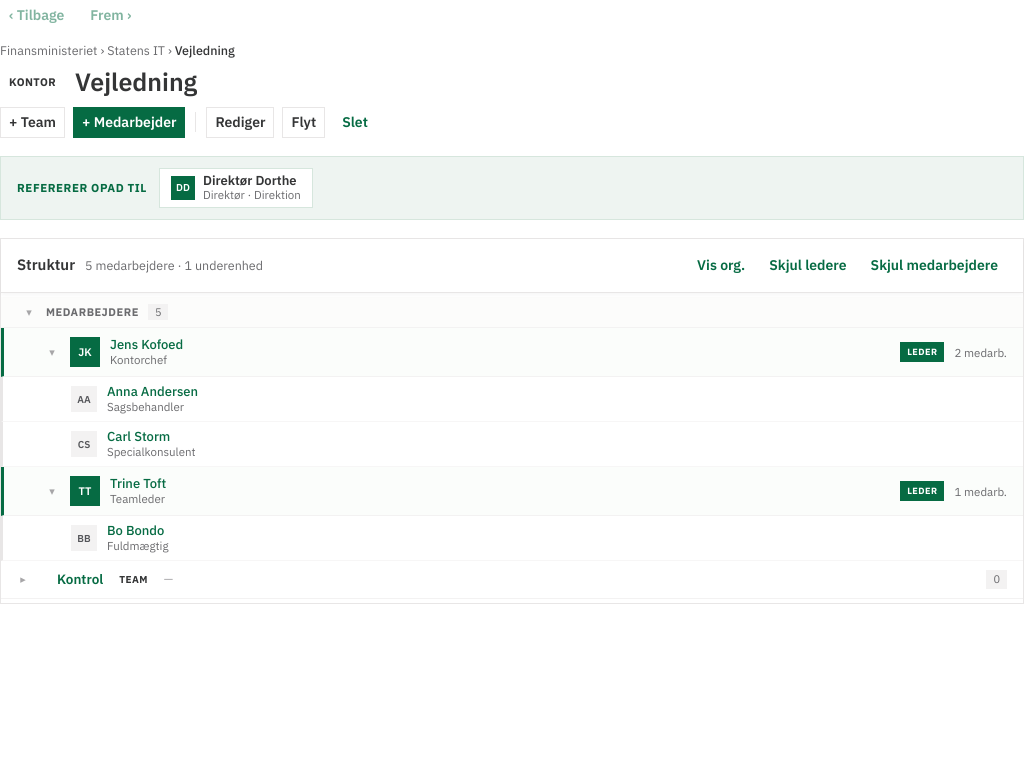
Test: Unit structure mutations (TASK-10801) + gating (TASK-10803) › lists ONLY the unit’s own members as leader candidates (member-invariant)
Click the button with test id "unit-action-edit". click: (240, 122)
box: [206,106,274,138]
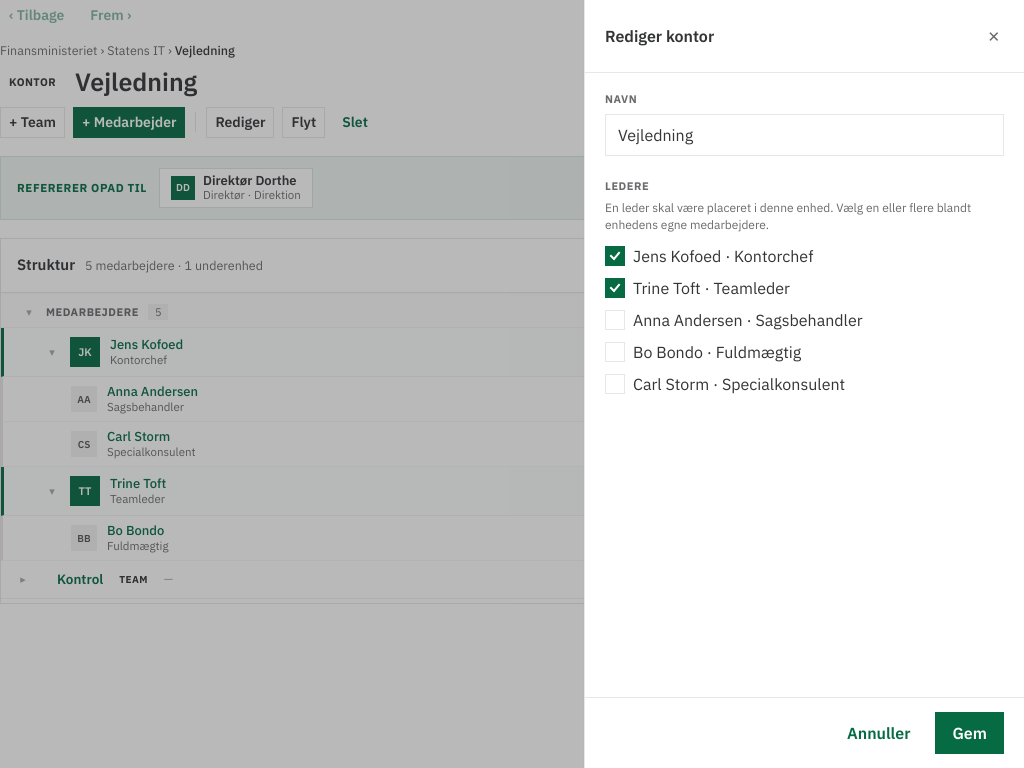
Now the text "En leder skal være placeret i denne enhed" is shown, box [605,200,971,232]
Now the checkbox labelled "Anna Andersen · Sagsbehandler" is shown, box [605,310,863,330]
Now the checkbox labelled "Bo Bondo · Fuldmægtig" is shown, box [605,342,801,362]
